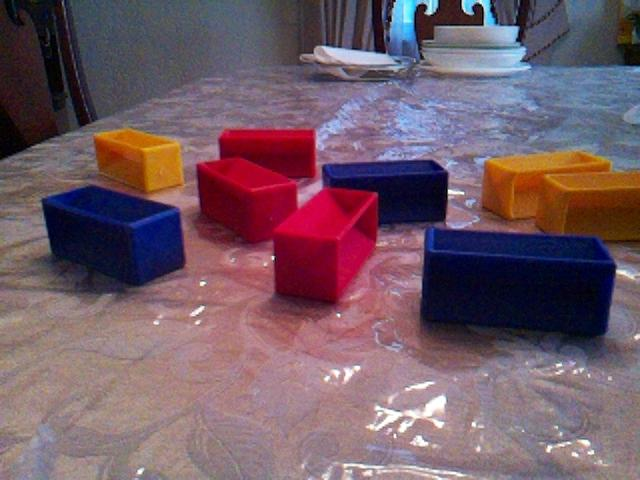blue: (419, 224, 618, 338), (40, 182, 187, 287), (321, 157, 450, 225)
red: (272, 186, 380, 303), (195, 155, 299, 243), (218, 126, 318, 179)
yellow: (481, 148, 612, 221), (535, 169, 640, 242), (92, 126, 185, 193)
